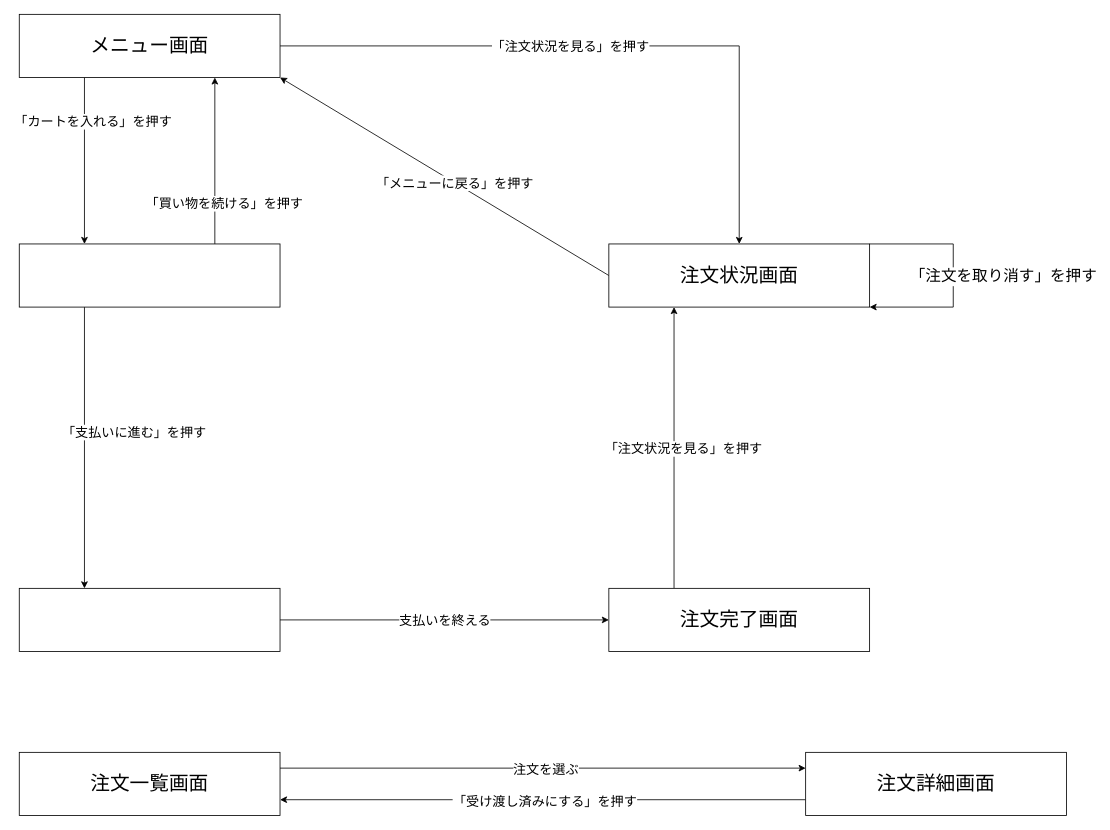
This 1110x830 diagram has some shape labels left out. The shapes that lost their labels are listed below. From the top down, each one's centre as x and y in pixels, then its label:
[149,275]: カート画面
[149,619]: 支払い画面
